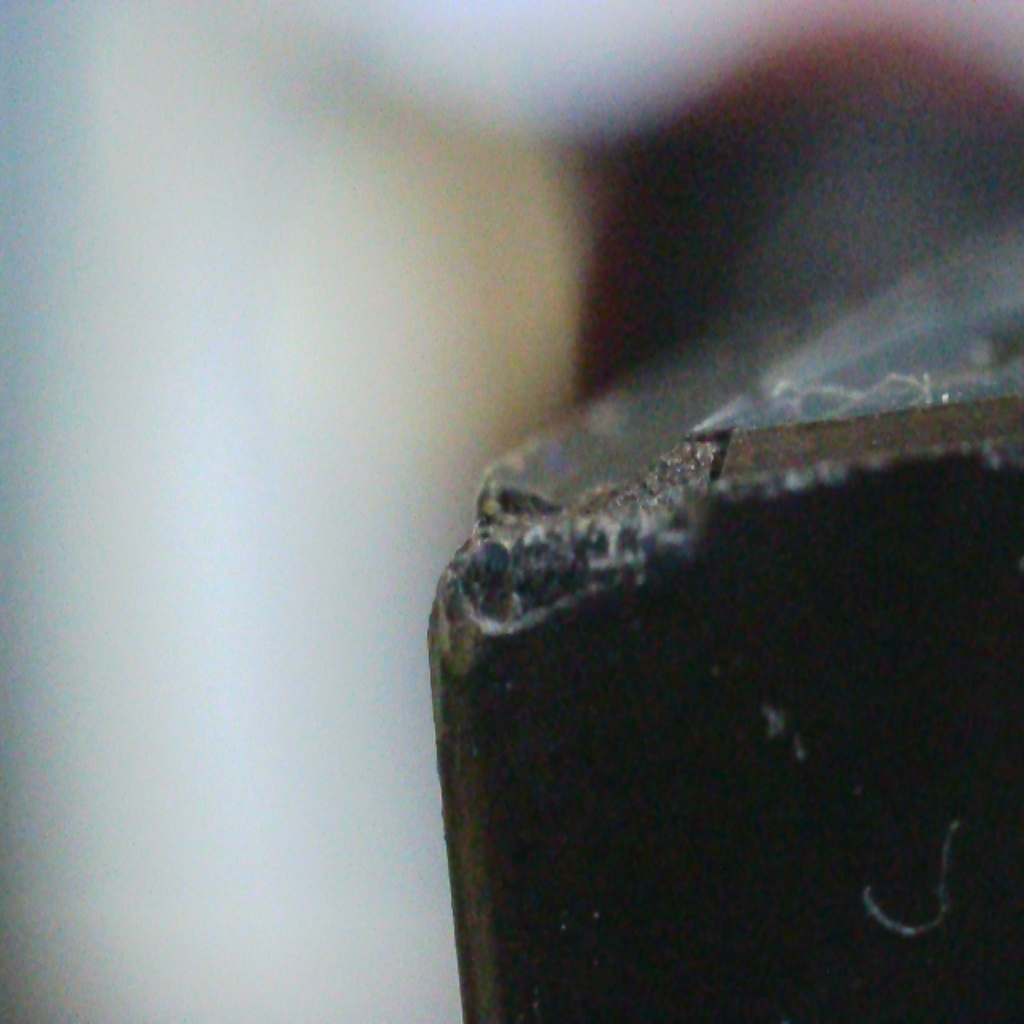flank_wear: (434, 505, 710, 649)
